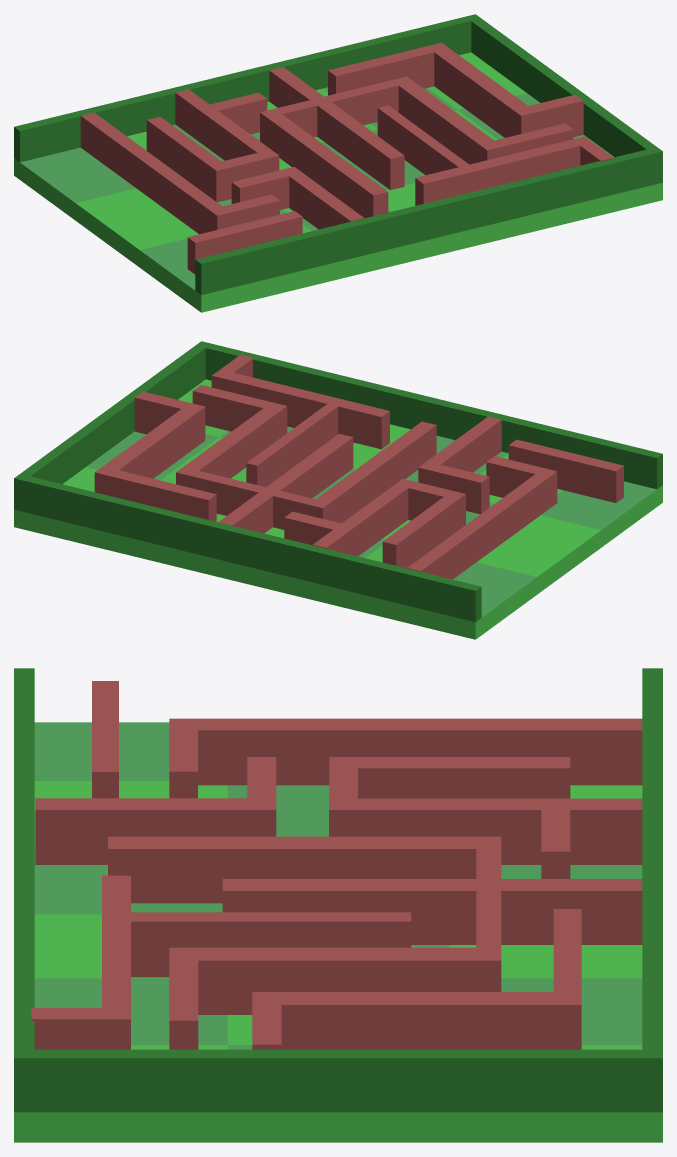
Rendered from maze01.fbx.
3 renders of one model, top to bottom at view 1: azimuth 30°, elevation 25°; view 2: azimuth 150°, elevation 25°; view 3: azimuth 270°, elevation 25°, orthographic. The views are drawn at different scales.
Visible parts, largest first — view 1: pasted__pasted__pCube7, pCube9, pasted__pCube11 (×3), pCube8, pCube10, pasted__pasted__pCube11, pCube11; view 2: pasted__pasted__pCube7, pCube9, pasted__pCube11 (×3), pCube8, pCube10, pCube11, pasted__pasted__pCube11; view 3: pasted__pasted__pCube7, pCube9, pasted__pCube11 (×3), pCube8, pCube10, pCube11, pasted__pasted__pCube11.
Part boxes in pixels (bbox=[...]): pasted__pasted__pCube7: bbox=[14, 14, 662, 312]; pCube9: bbox=[260, 67, 573, 218]; pasted__pCube11 (×3): bbox=[80, 89, 302, 274]; pCube8: bbox=[328, 42, 583, 137]; pCube10: bbox=[377, 105, 613, 205]; pasted__pasted__pCube11: bbox=[146, 116, 265, 202]; pCube11: bbox=[231, 167, 363, 229]; pasted__pasted__pCube7: bbox=[14, 341, 662, 639]; pCube9: bbox=[176, 385, 436, 533]; pasted__pCube11 (×3): bbox=[284, 439, 623, 579]; pCube8: bbox=[94, 391, 216, 521]; pCube10: bbox=[211, 354, 389, 486]; pCube11: bbox=[418, 416, 501, 514]; pasted__pasted__pCube11: bbox=[382, 482, 465, 568]; pasted__pasted__pCube7: bbox=[14, 668, 662, 1142]; pCube9: bbox=[108, 836, 642, 1049]; pasted__pCube11 (×3): bbox=[92, 681, 642, 878]; pCube8: bbox=[252, 909, 581, 1049]; pCube10: bbox=[31, 875, 411, 1049]; pCube11: bbox=[35, 757, 276, 864]; pasted__pasted__pCube11: bbox=[329, 757, 570, 798].
Size of the model in its own units: 22.4 by 2.39 by 15.75.
